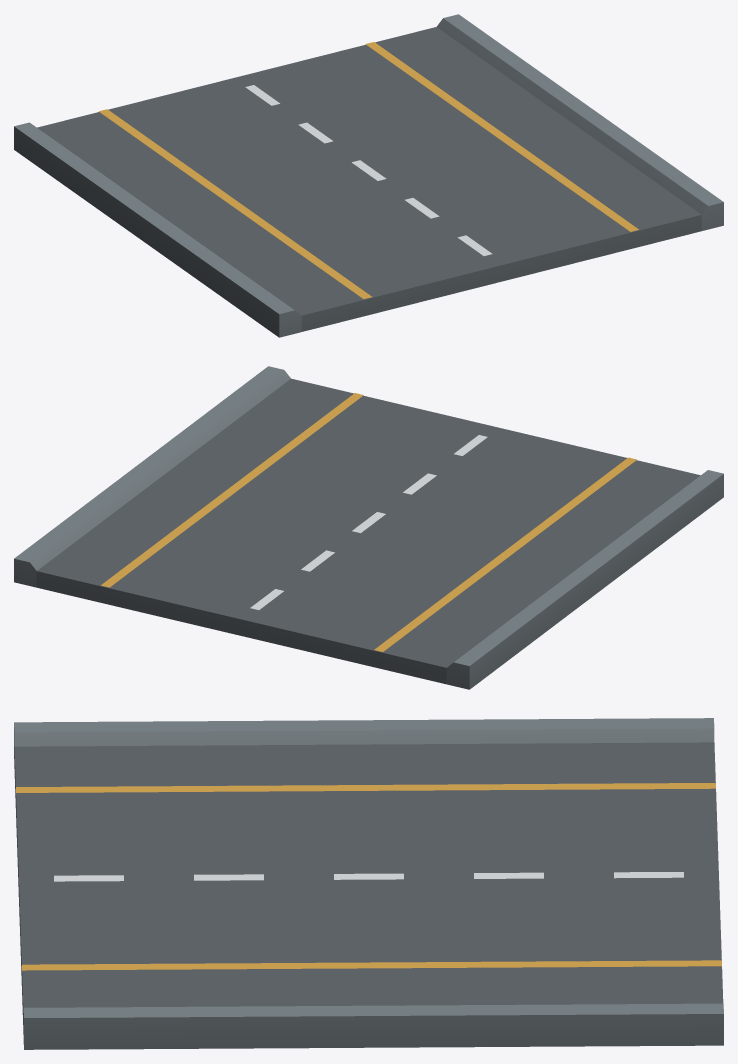
The picture shows the model from 3 angles, top to bottom: view 1: azimuth 30°, elevation 25°; view 2: azimuth 150°, elevation 25°; view 3: azimuth 270°, elevation 25°; orthographic projection. The views are drawn at different scales.
Parts seen in each view (by area): view 1: road_straight_Cube.952; view 2: road_straight_Cube.952; view 3: road_straight_Cube.952.
Part boxes in pixels (box(x1,y1,x2,y2)): road_straight_Cube.952: box(14, 14, 723, 337); road_straight_Cube.952: box(14, 366, 723, 689); road_straight_Cube.952: box(14, 718, 723, 1049).
Size of the model in its own units: 2.03 by 0.1 by 2.03.
1 material, 1 textured.
